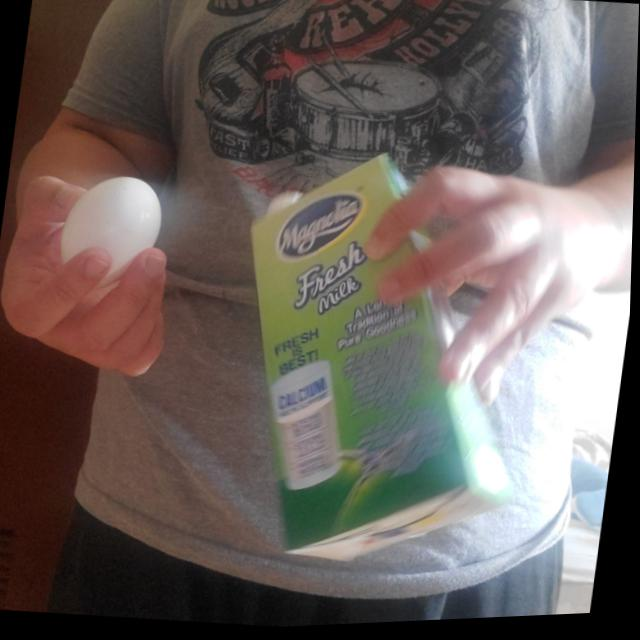egg: (53, 172, 171, 293)
milk: (207, 137, 558, 591)
